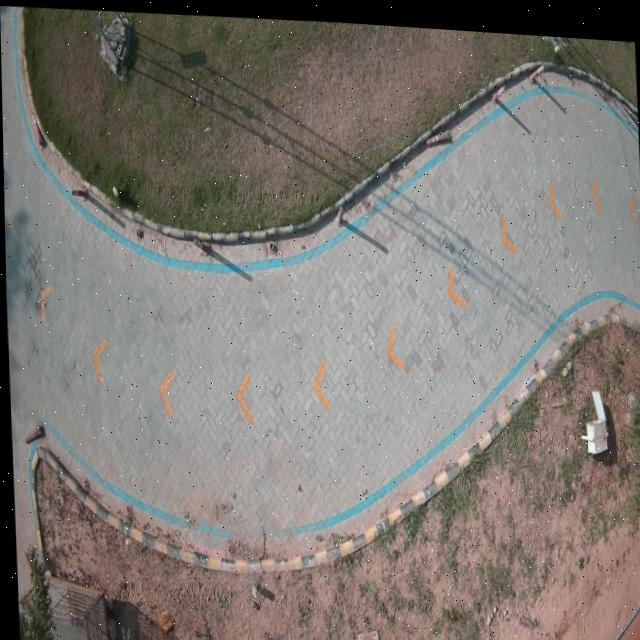No Car: (0, 6, 640, 640)
